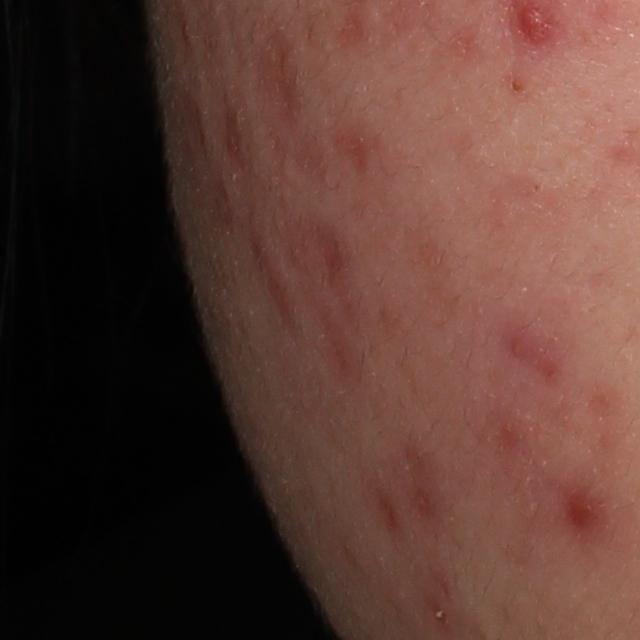comedo: (507, 75, 526, 94)
papule: (561, 485, 606, 534), (257, 247, 292, 310), (515, 2, 550, 43), (506, 335, 534, 361)
